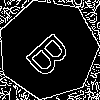B: (23, 24, 80, 80)
